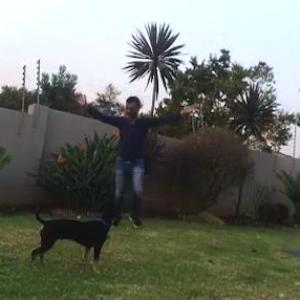takeoff: (83, 96, 204, 222)
